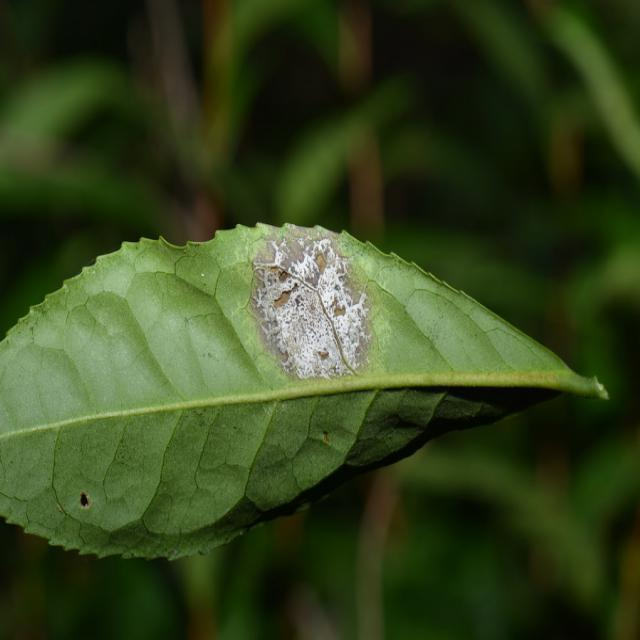Tea exobasidium blight: (258, 232, 365, 380)
